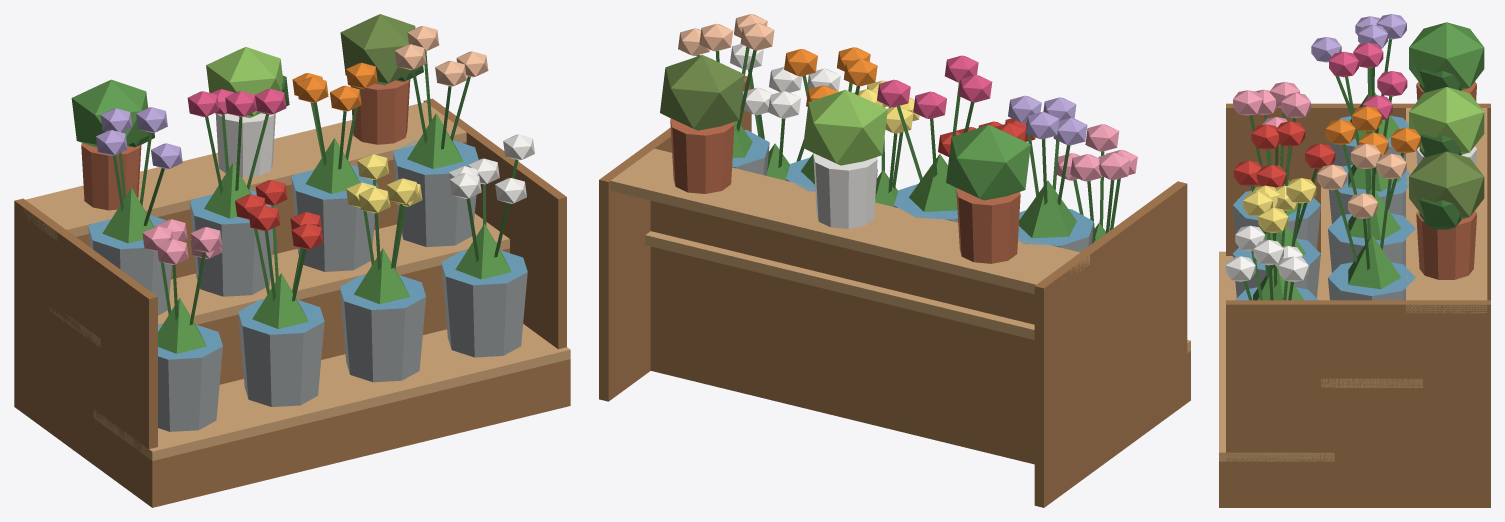
Rendered from SC_Shop_Flower_Display.gltf.
3 renders of one model, left to right at view 1: azimuth 30°, elevation 25°; view 2: azimuth 150°, elevation 25°; view 3: azimuth 270°, elevation 25°, orthographic. The views are drawn at different scales.
Parts seen in each view (by area): view 1: SC_Shop_Flower_Display; view 2: SC_Shop_Flower_Display; view 3: SC_Shop_Flower_Display.
Boxes of the visible parts, left/top/right/bottom form: SC_Shop_Flower_Display: left=14, top=14, right=570, bottom=507; SC_Shop_Flower_Display: left=599, top=14, right=1190, bottom=507; SC_Shop_Flower_Display: left=1219, top=14, right=1490, bottom=507.
Bounding box in the file's own units: 1.4 × 1.07 × 0.8.
1 material, 1 textured.
